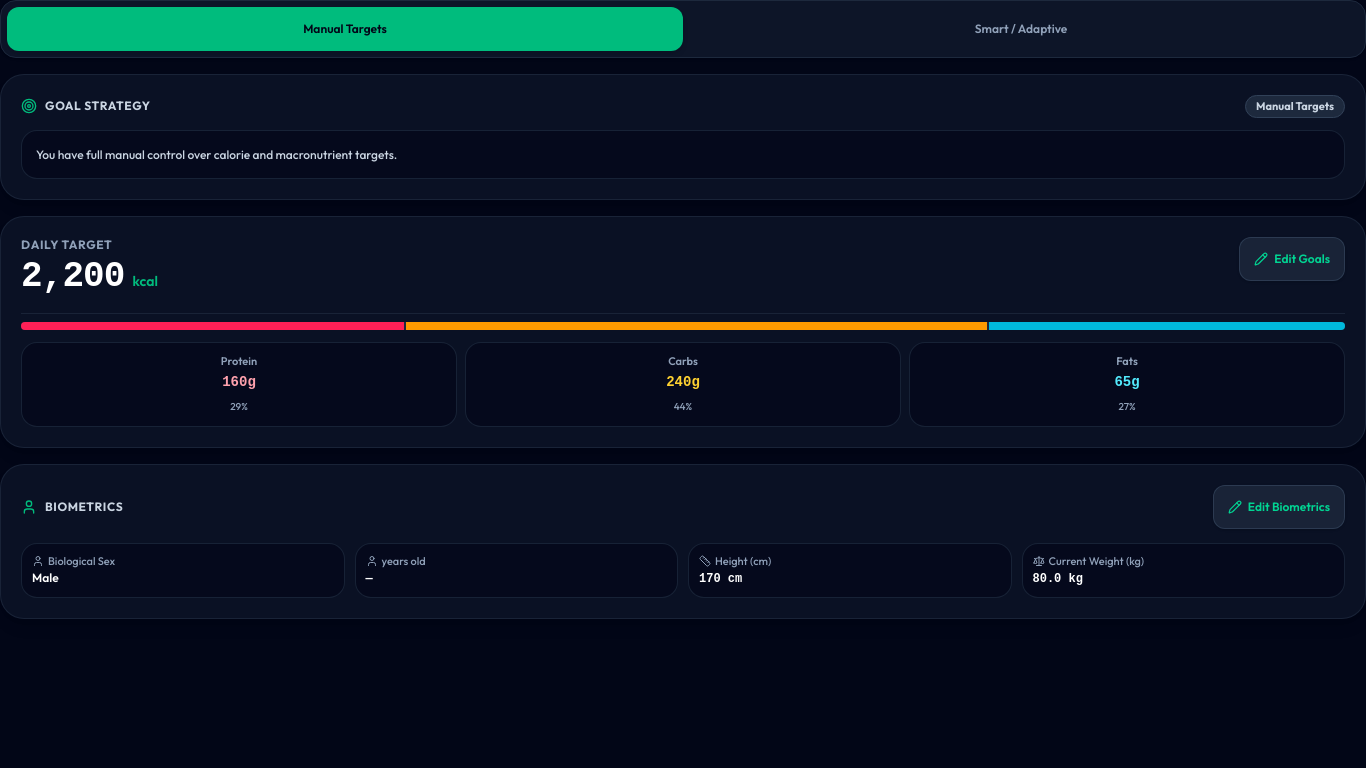
Test case: Wave 5: Adaptive Expenditure & Weight Tracking UI Components › 6. Target Mode Selector (Manual vs Smart/Adaptive) in User Profile & Goals › renders mode switcher and switches between manual and smart/adaptive
The width and height of the screenshot is (1366, 768).
Expected: the button with test id "btn-target-mode-manual" is shown, [7, 7, 683, 51]
// Switch to Smart / Adaptive via confirm dialog
Click the button with test id "btn-target-mode-smart" at (1021, 29), box [683, 7, 1359, 51]
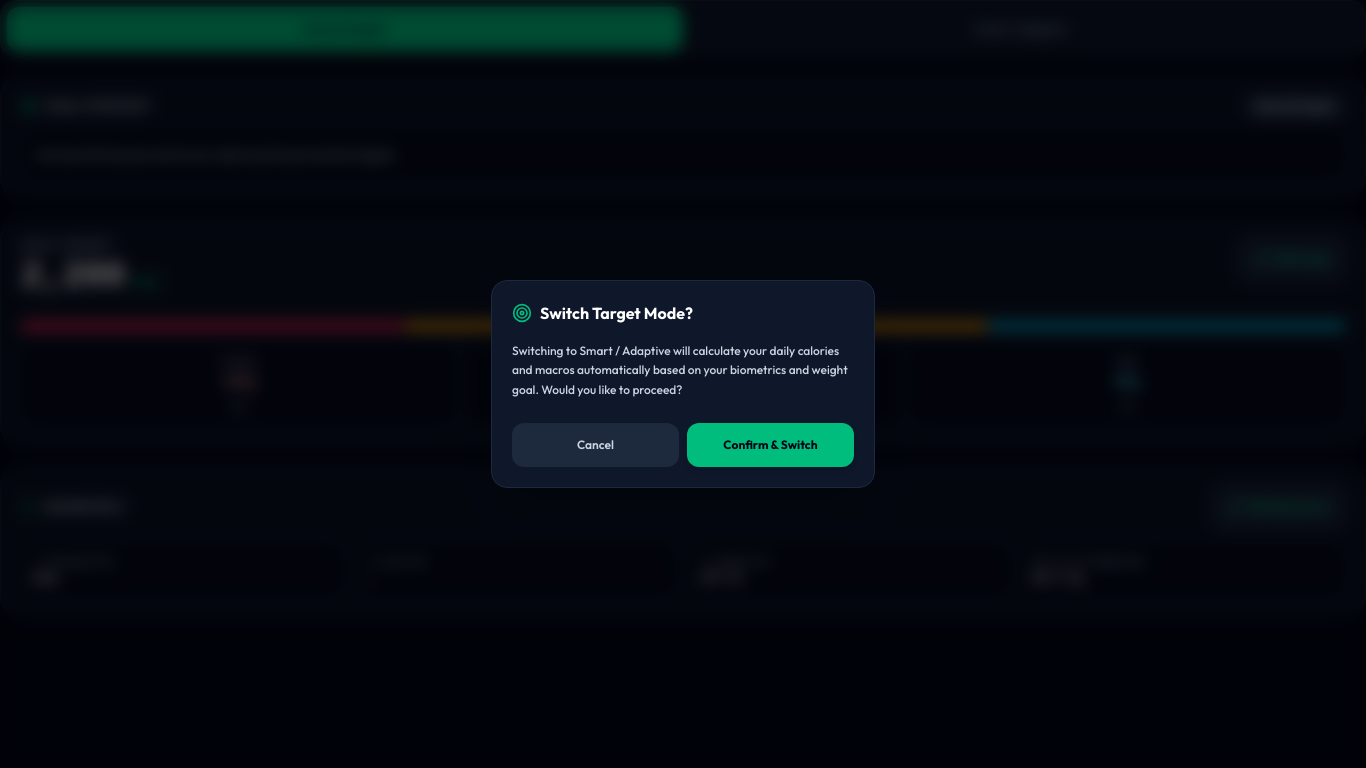
Now the button with test id "btn-confirm-mode-switch" is shown
Click the button with test id "btn-confirm-mode-switch" at (770, 445), box [687, 423, 854, 467]
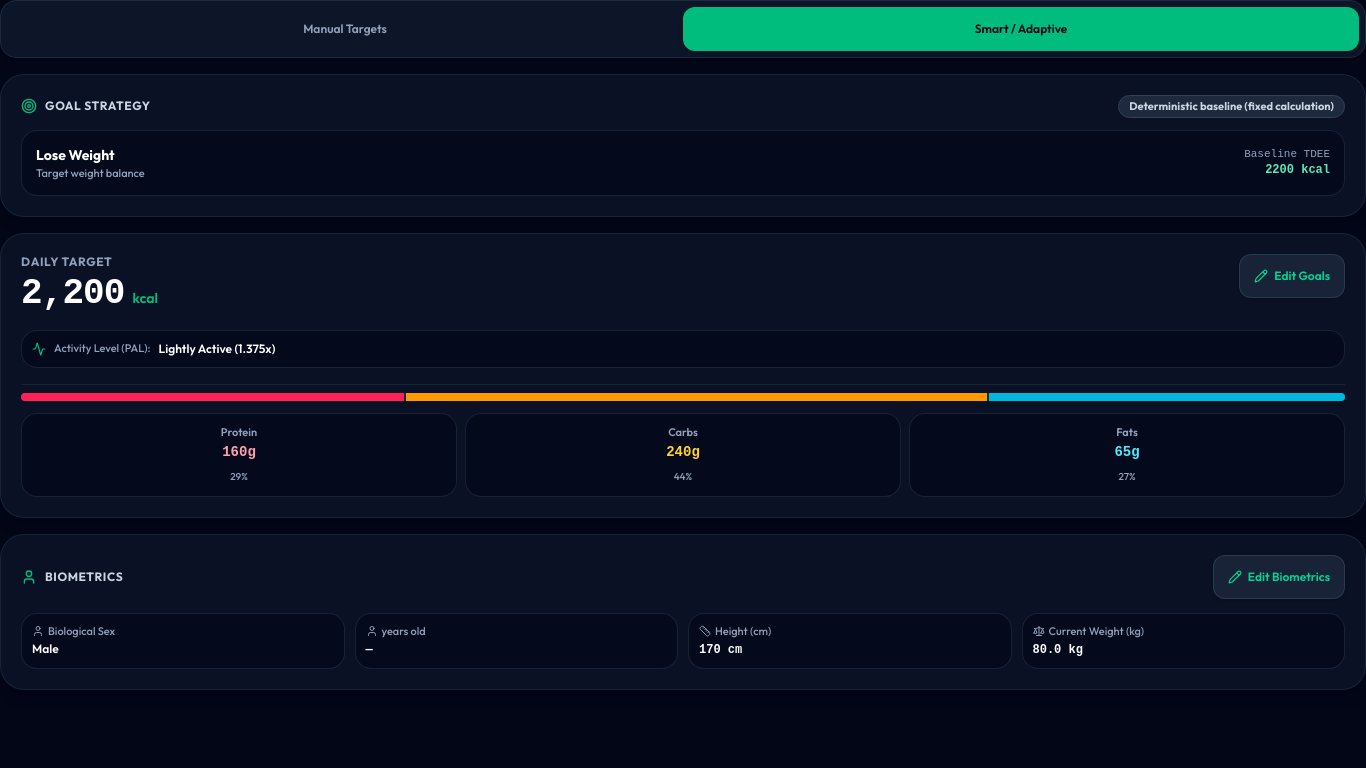
// Open Biometrics Edit Modal
Click the button with test id "btn-edit-biometrics" at (1279, 577), box [1213, 555, 1345, 599]
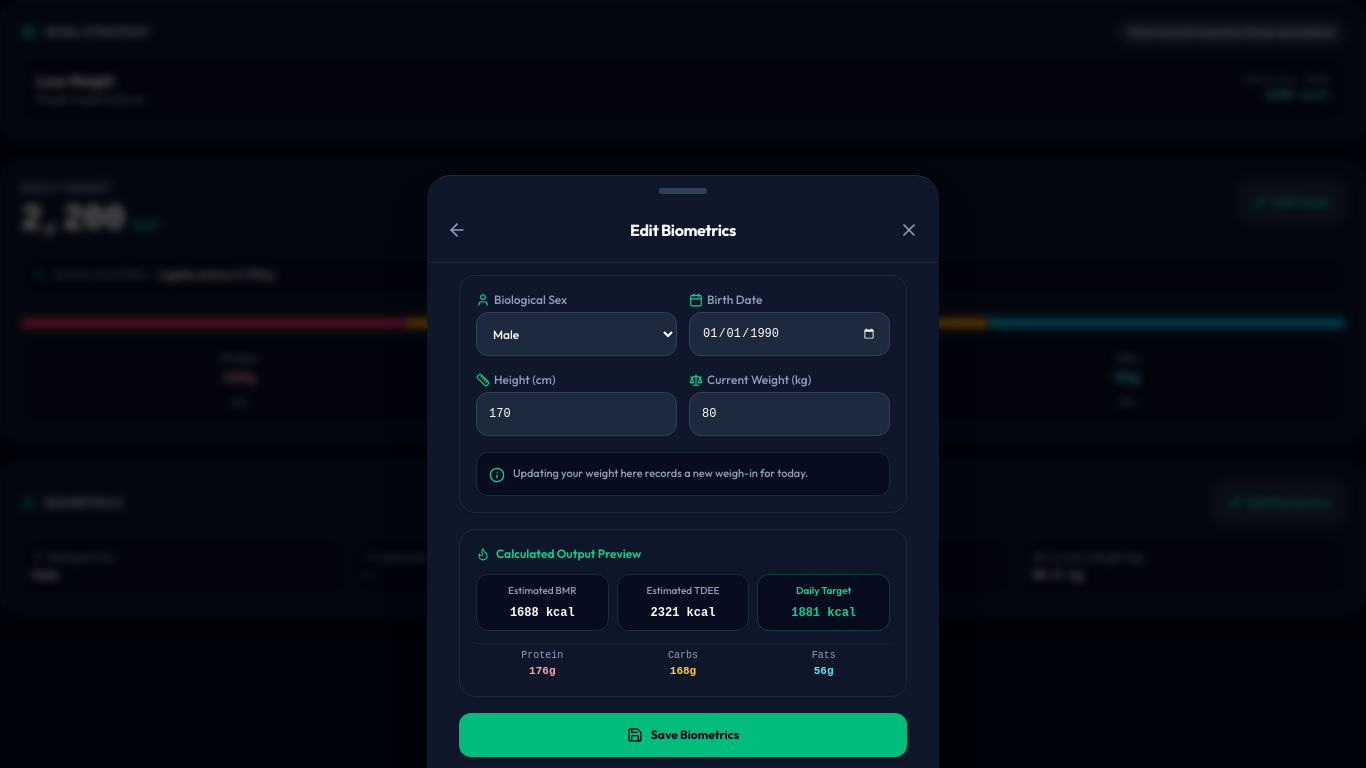
Now the dropdown with test id "select-biometrics-sex" is shown, box [476, 312, 677, 356]
Now the number field with test id "input-biometrics-height" is shown, box [476, 392, 677, 436]
Now the number field with test id "input-biometrics-weight" is shown, box [689, 392, 890, 436]
Click the button with test id "btn-back-biometrics" at (457, 230), box [435, 208, 479, 252]
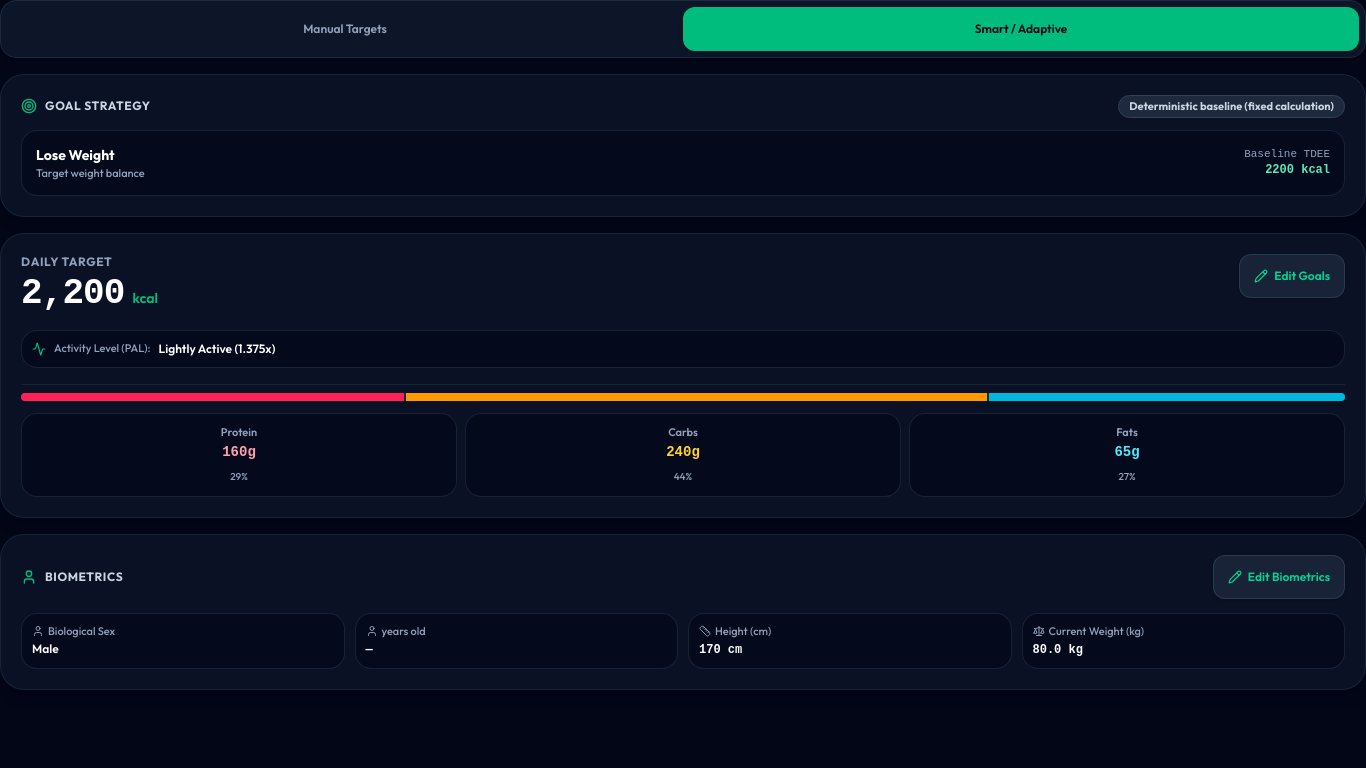
// Open Goals Edit Modal
Click the button with test id "btn-edit-goals" at (1292, 276), box [1239, 254, 1345, 298]
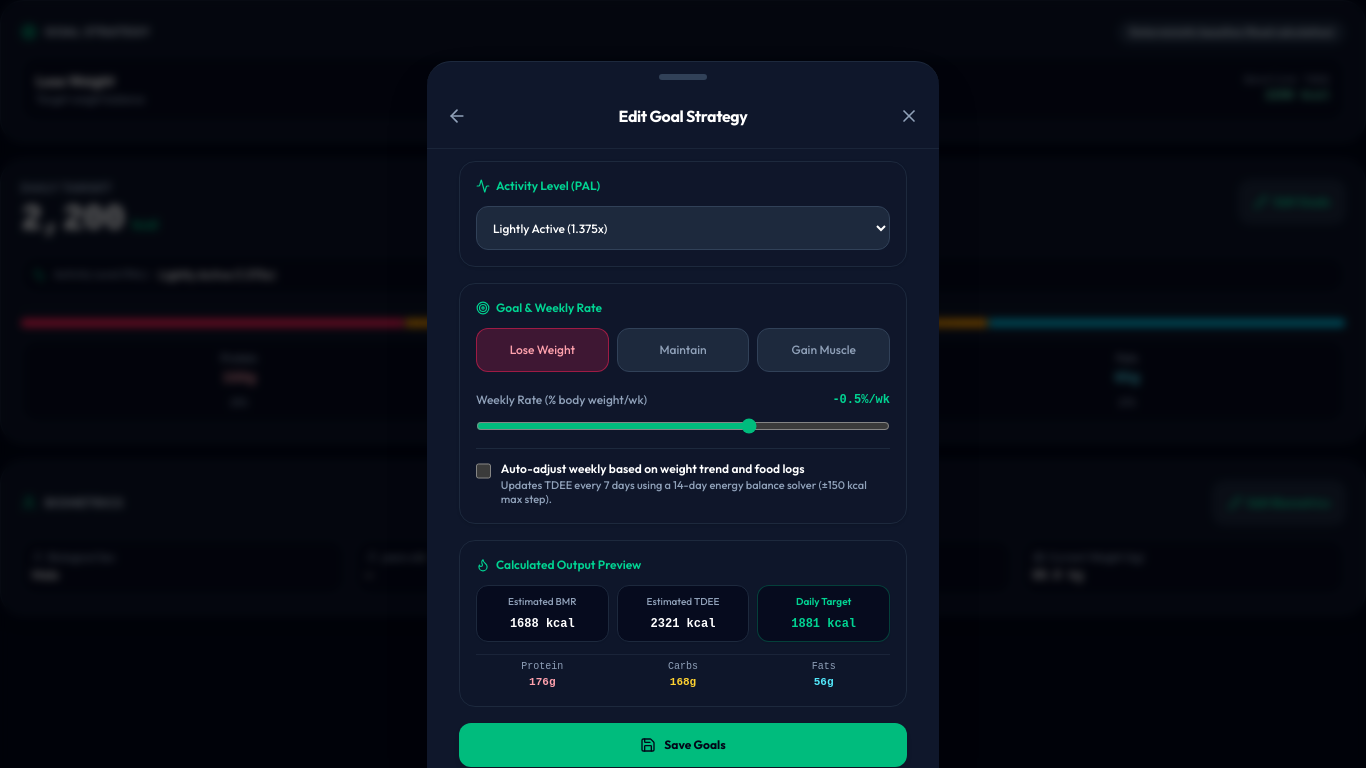
Now the button with test id "btn-goal-lose" is shown, box [476, 328, 609, 372]
Now the button with test id "btn-goal-maintain" is shown, box [617, 328, 749, 372]
Now the button with test id "btn-goal-gain" is shown, box [757, 328, 890, 372]
